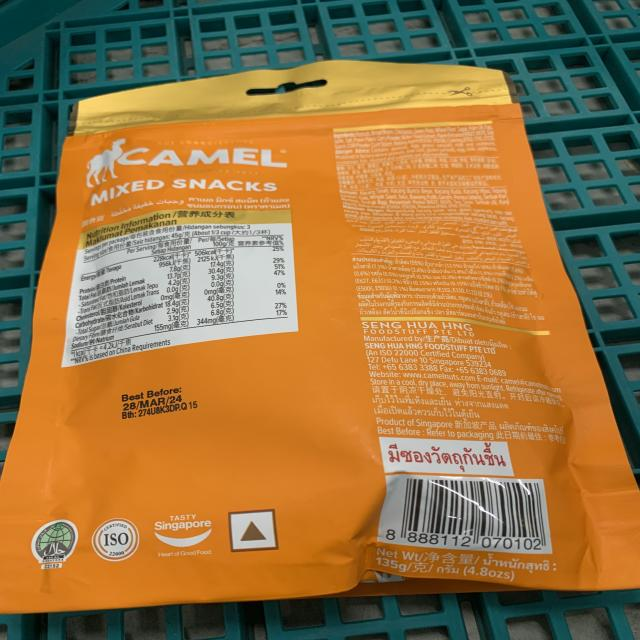object_name: (31, 86, 640, 598)
